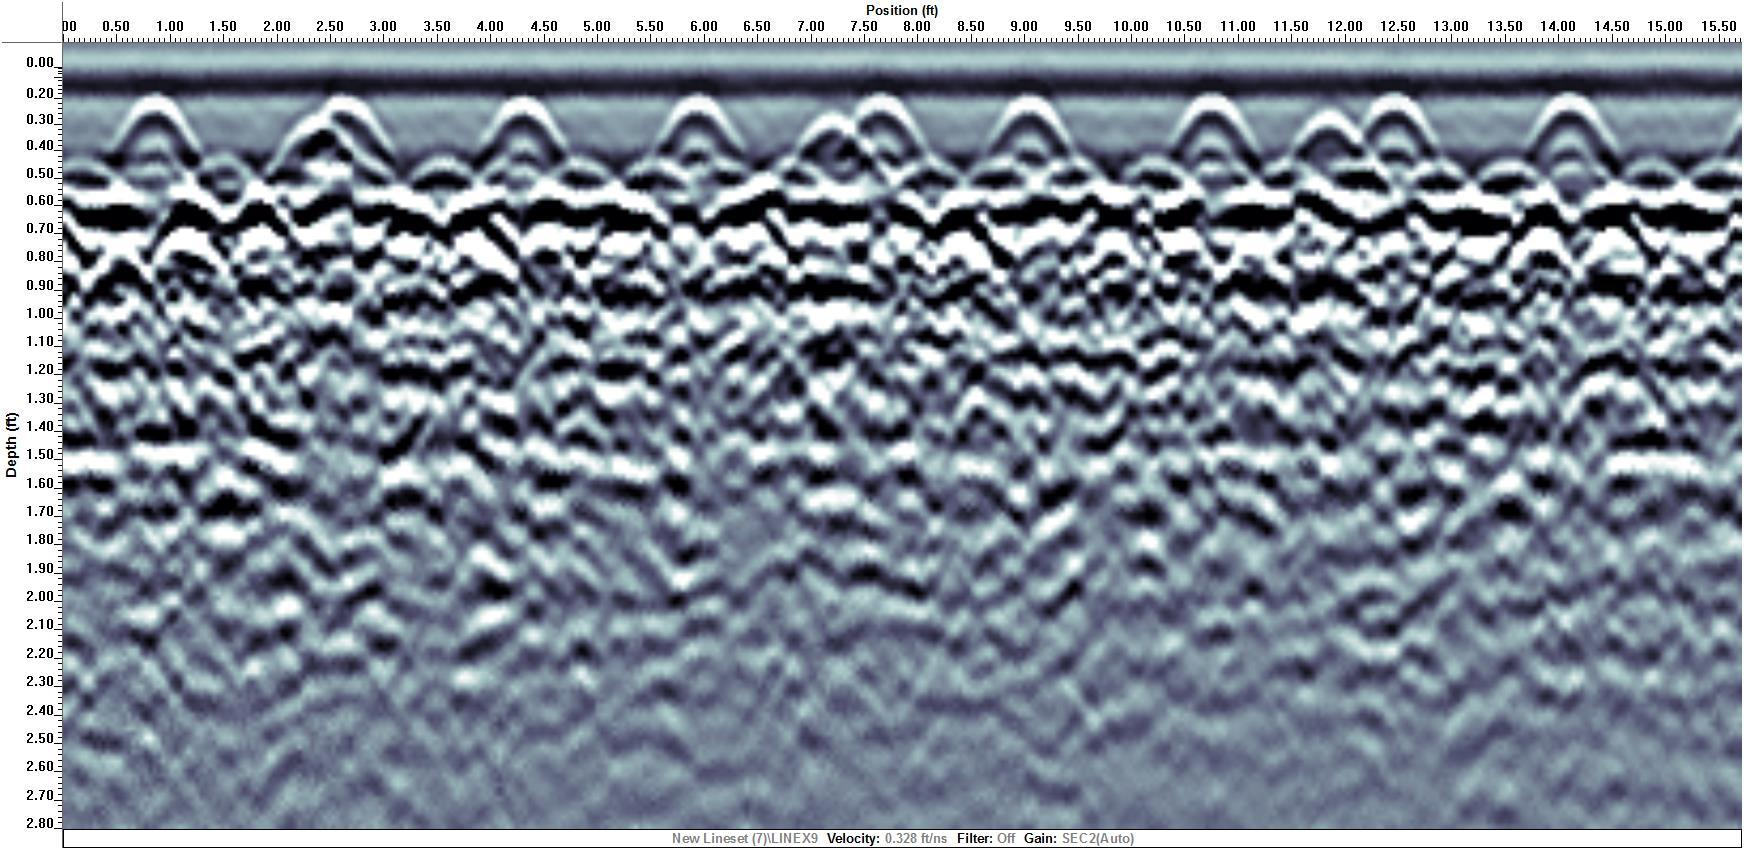hyperbola: (1507, 85, 1638, 176), (463, 95, 599, 181), (1149, 93, 1286, 175), (99, 88, 218, 171), (980, 92, 1100, 175), (650, 88, 753, 178), (1349, 91, 1455, 171)
